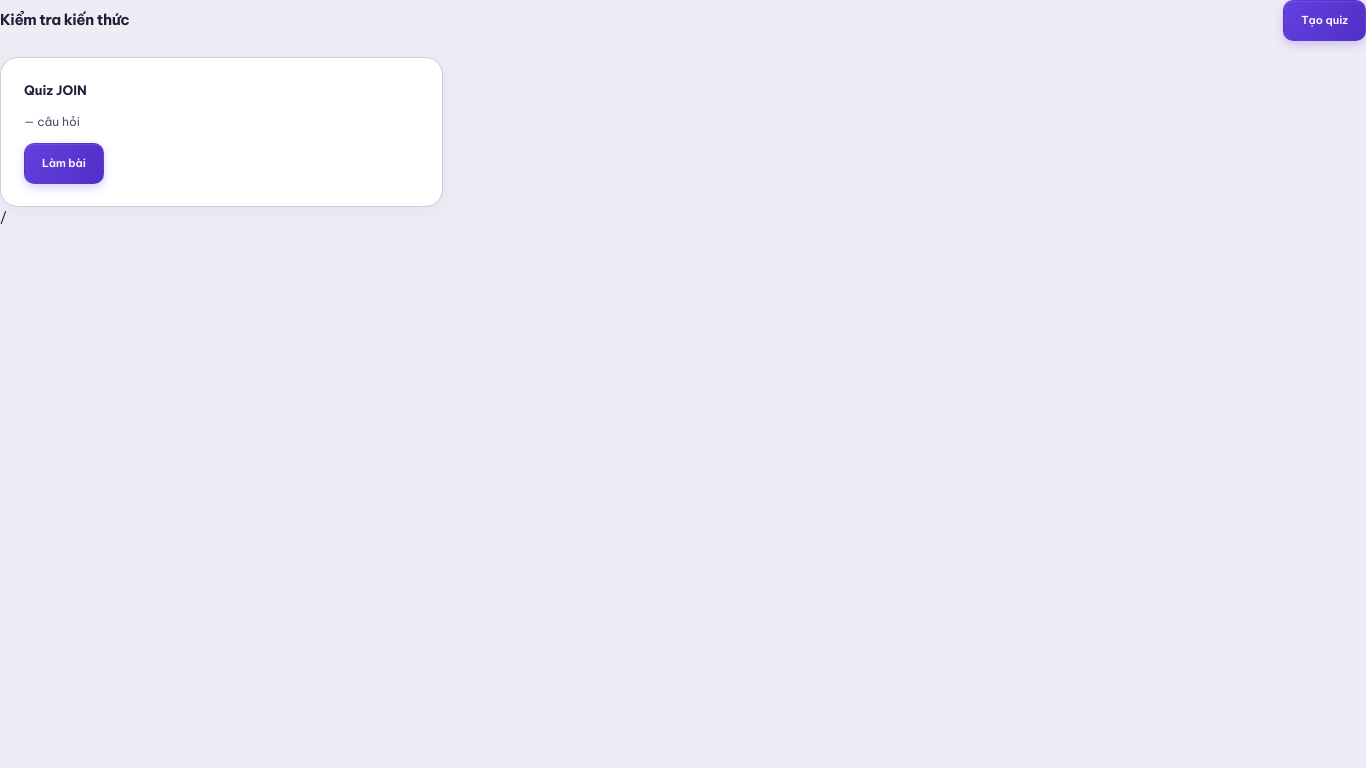
Test: Reviewed AI proposals and source context › does not show a successful quiz result when a submit response has no measured score
Click the button "Làm bài" at (64, 164), box x1=24 y1=144 x2=104 y2=184
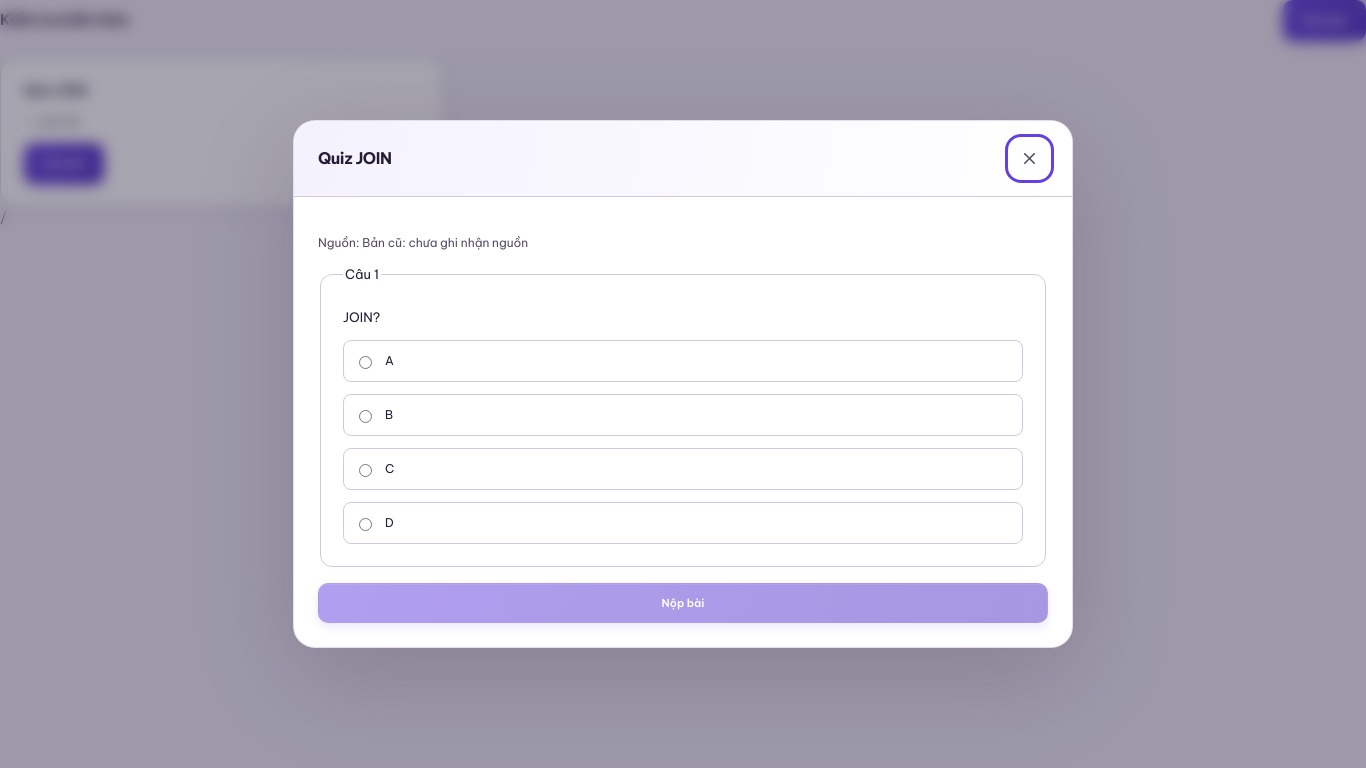
Click the radio button labelled "A" at (366, 363), box x1=359 y1=356 x2=372 y2=369
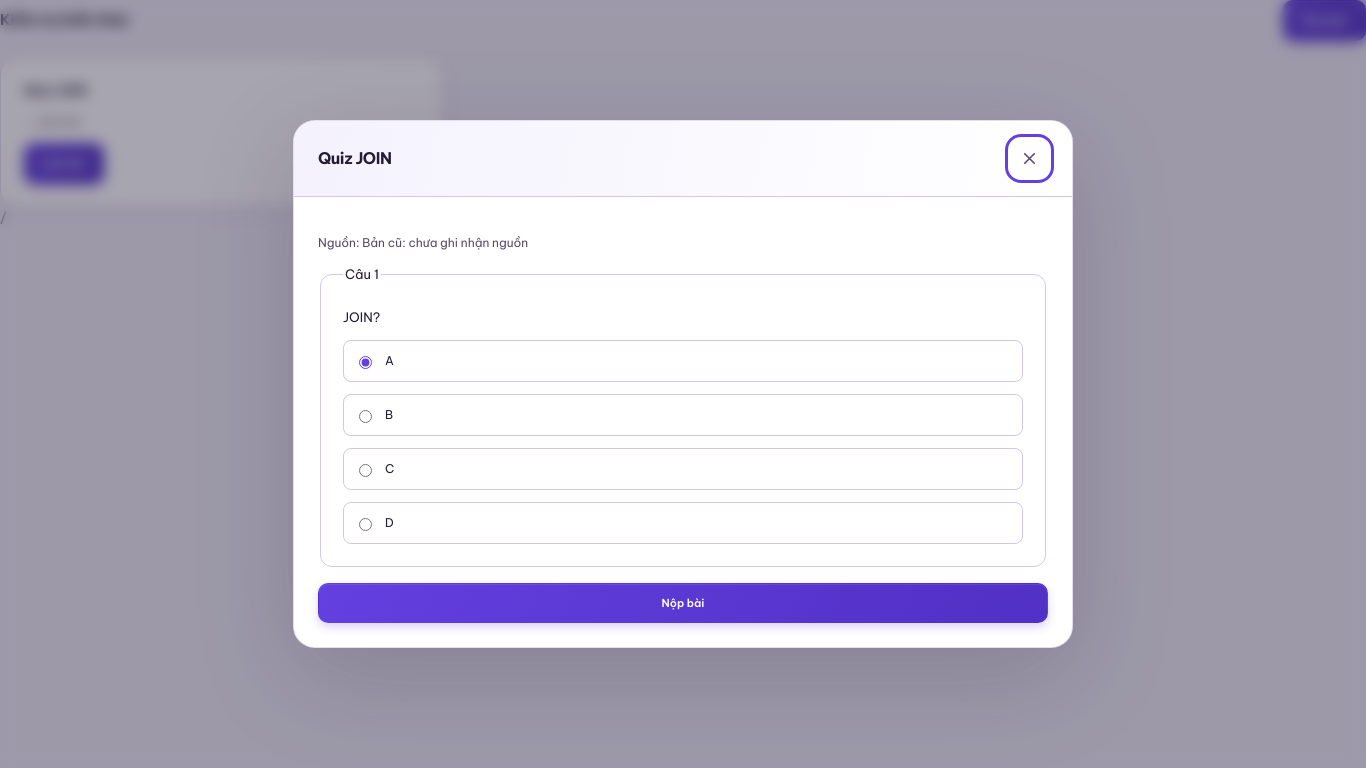
Submit the form "Nộp bài", box x1=318 y1=264 x2=1048 y2=623
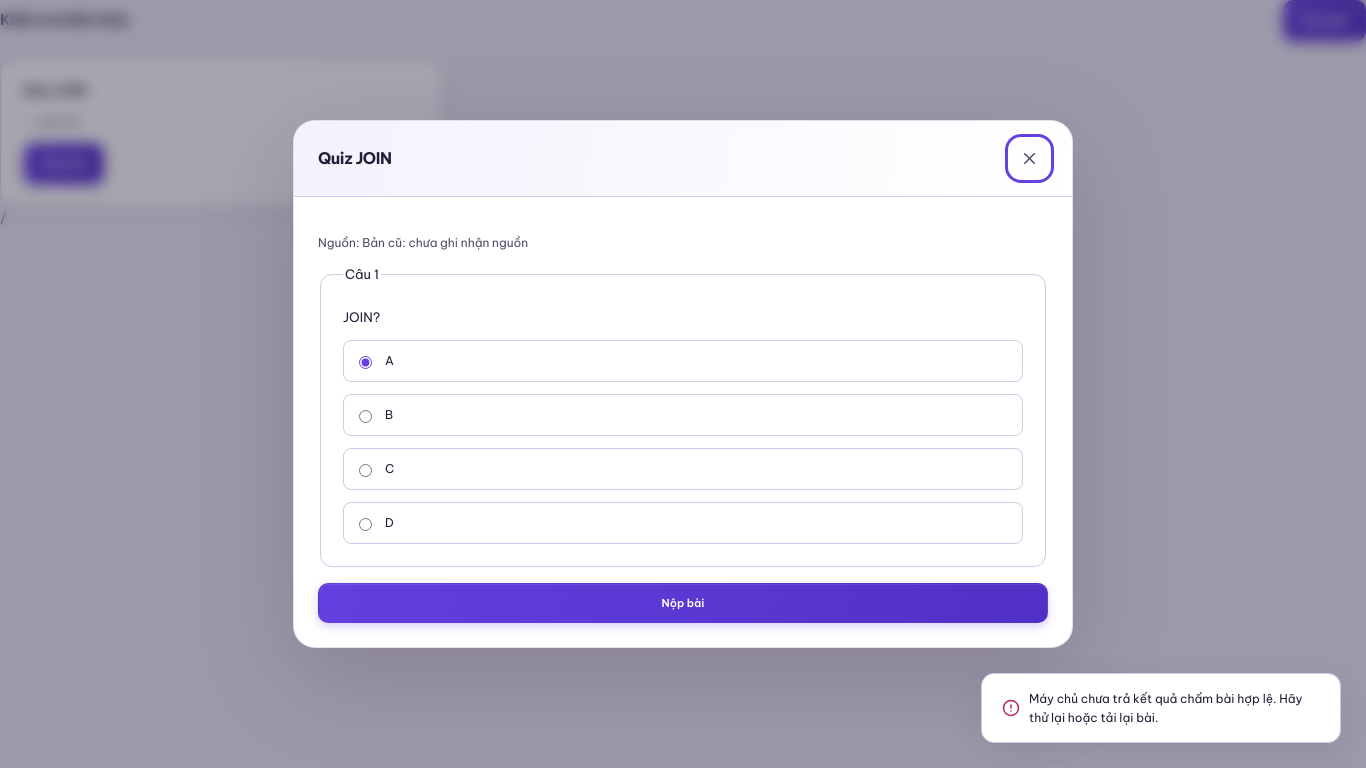
Now the radio button labelled "A" is checked, box x1=359 y1=356 x2=372 y2=369
Now the text "Máy chủ chưa trả kết quả chấm bài hợp lệ" is shown, box x1=1029 y1=691 x2=1302 y2=725
